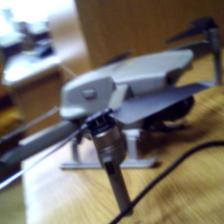drone: (0, 26, 224, 187)
